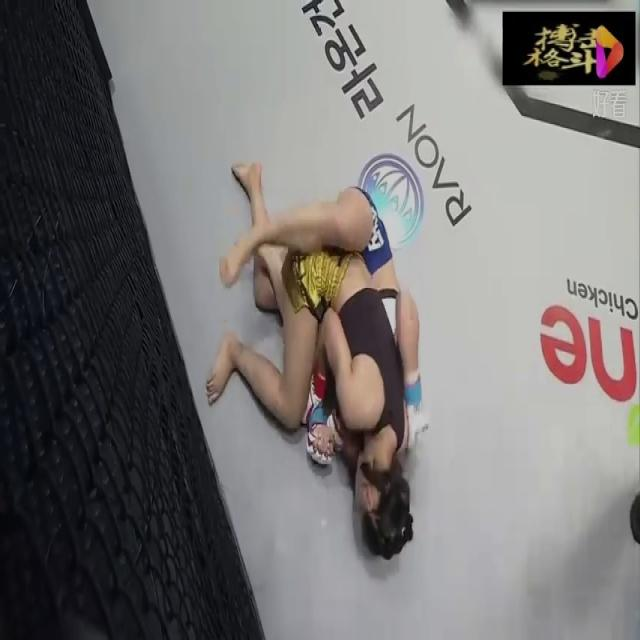fight: (189, 55, 440, 569)
